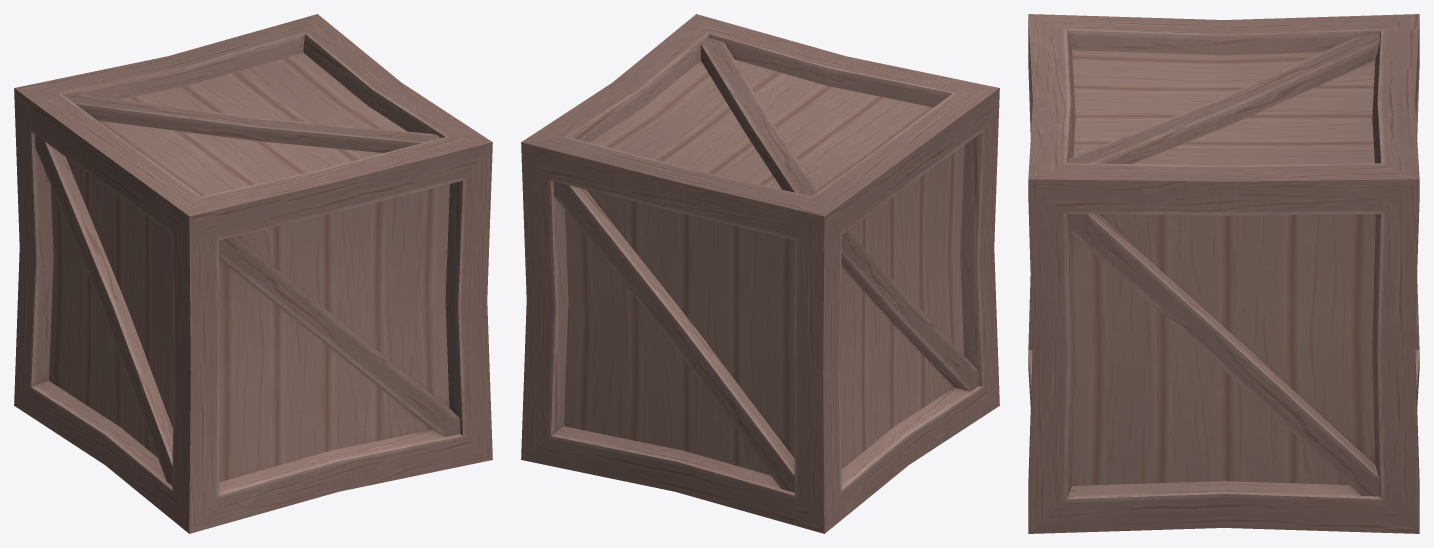
3 renders of one model, left to right at view 1: azimuth 30°, elevation 25°; view 2: azimuth 150°, elevation 25°; view 3: azimuth 270°, elevation 25°, orthographic. The views are drawn at different scales.
Parts seen in each view (by area): view 1: submesh_0; view 2: submesh_0; view 3: submesh_0.
Boxes of the visible parts, box(x1,y1,x2,y2) form: submesh_0: box(14, 14, 492, 533); submesh_0: box(521, 14, 999, 533); submesh_0: box(1028, 14, 1419, 533).
Bounding box in the file's own units: 0.7373 × 0.7373 × 0.7373.
1 material, 1 textured.
